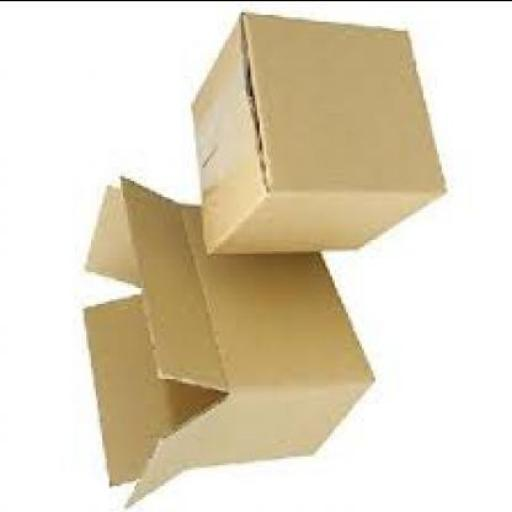cardboard: (82, 182, 371, 510), (189, 14, 449, 254)
